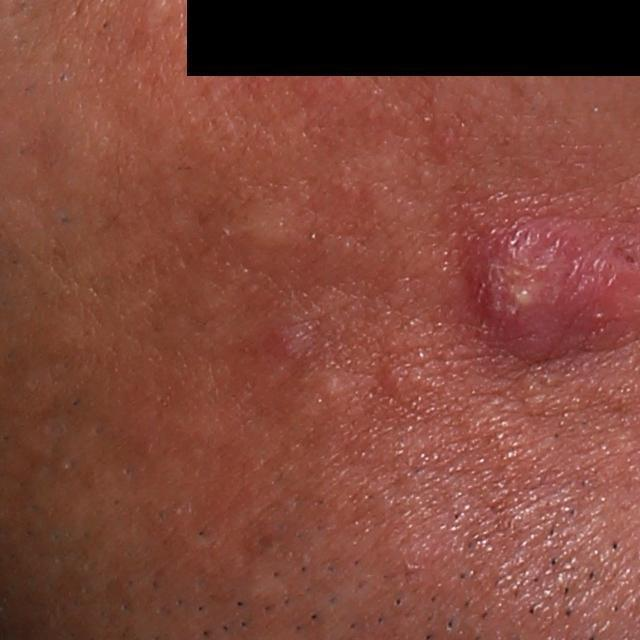hypertrophic_scar: (228, 201, 310, 248), (293, 362, 351, 408)
papule: (260, 325, 313, 360)
